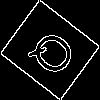Q: (25, 25, 87, 86)
